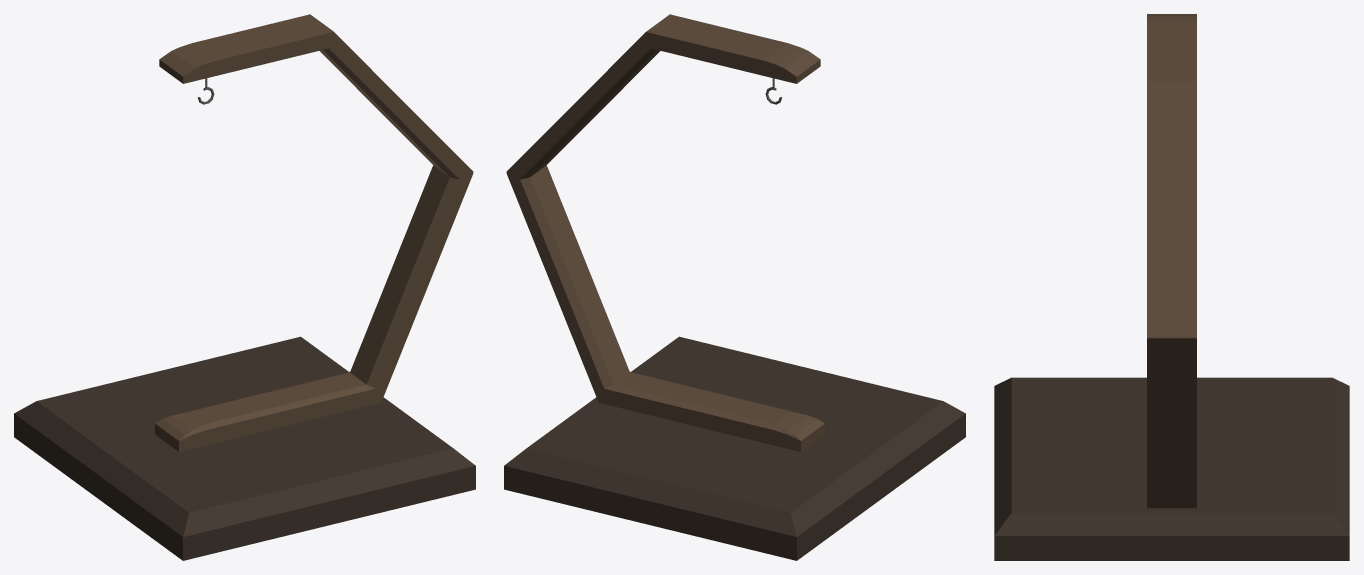
File: Lantern Holder.glb
3 renders of one model, left to right at view 1: azimuth 30°, elevation 25°; view 2: azimuth 150°, elevation 25°; view 3: azimuth 270°, elevation 25°, orthographic. The views are drawn at different scales.
Parts seen in each view (by area): view 1: Base, Arm; view 2: Base, Arm; view 3: Base, Arm.
Boxes of the visible parts, x1,y1,x2,y2 form: Base: (14,336,475,560); Arm: (155,14,473,451); Base: (504,336,965,560); Arm: (506,14,824,451); Base: (994,377,1349,560); Arm: (1147,14,1196,508).
Bounding box in the file's own units: 2.48 × 2.75 × 2.
